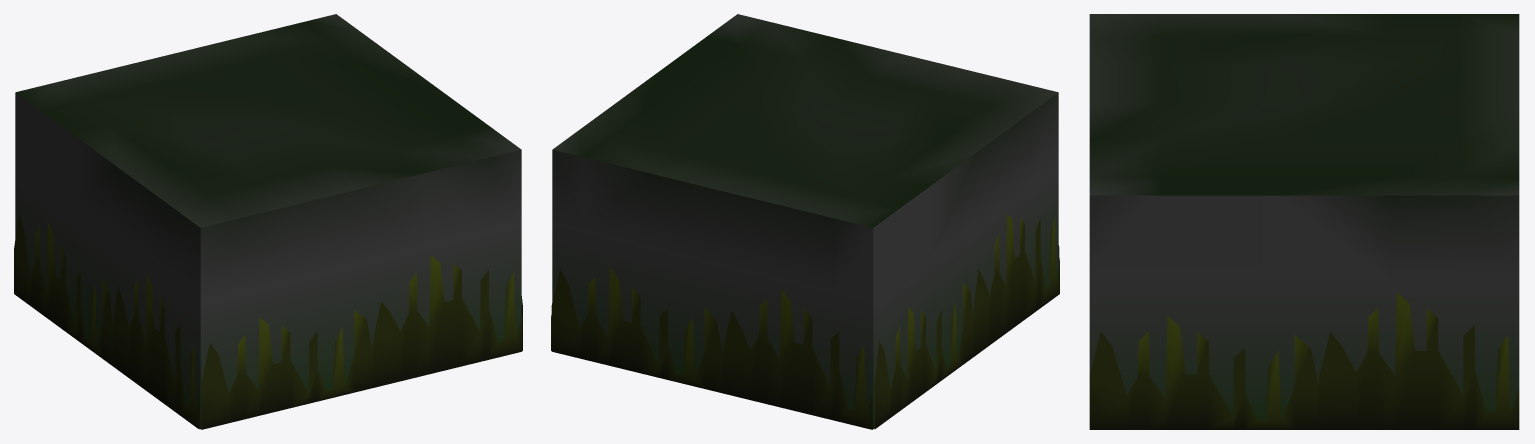
Rendered from lib-laby-block-square-a.fbx.
The picture shows the model from 3 angles, left to right: view 1: azimuth 30°, elevation 25°; view 2: azimuth 150°, elevation 25°; view 3: azimuth 270°, elevation 25°; orthographic projection. The views are drawn at different scales.
Visible parts, largest first — view 1: lib_laby_block_square_a:pCube2; view 2: lib_laby_block_square_a:pCube2; view 3: lib_laby_block_square_a:pCube2.
Boxes of the visible parts, <box> form: lib_laby_block_square_a:pCube2: <box>14,14,522,429</box>; lib_laby_block_square_a:pCube2: <box>551,14,1059,429</box>; lib_laby_block_square_a:pCube2: <box>1089,14,1519,429</box>.
Size of the model in its own units: 15.11 by 9 by 15.11.
